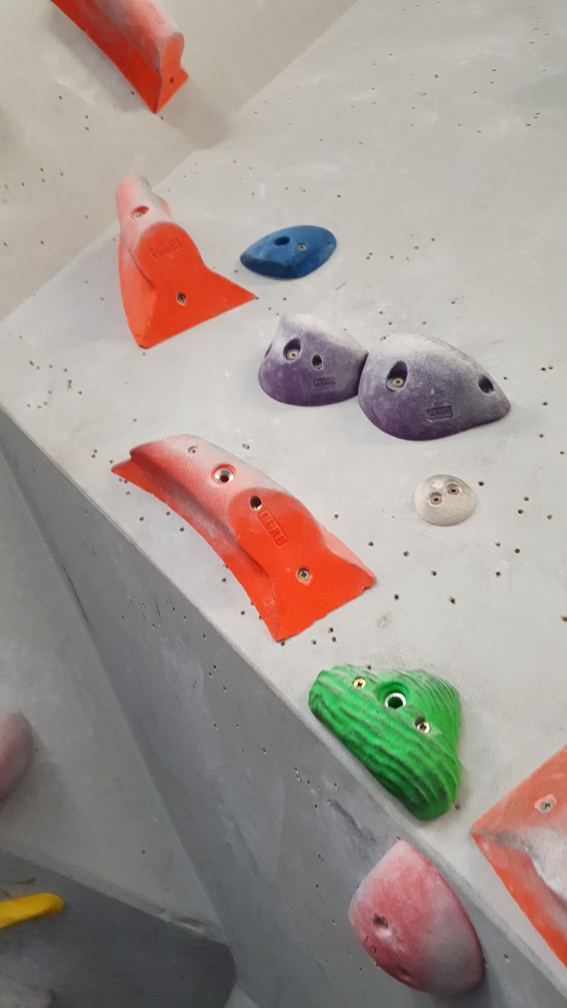Crimp: (238, 222, 339, 280)
Jug: (310, 659, 467, 816), (360, 332, 528, 439), (258, 309, 372, 412)
Pinch: (111, 429, 381, 650), (103, 170, 259, 355), (476, 743, 567, 972), (41, 1, 194, 118)
